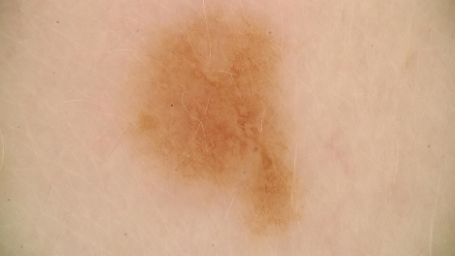nevus: (139, 24, 297, 237)
